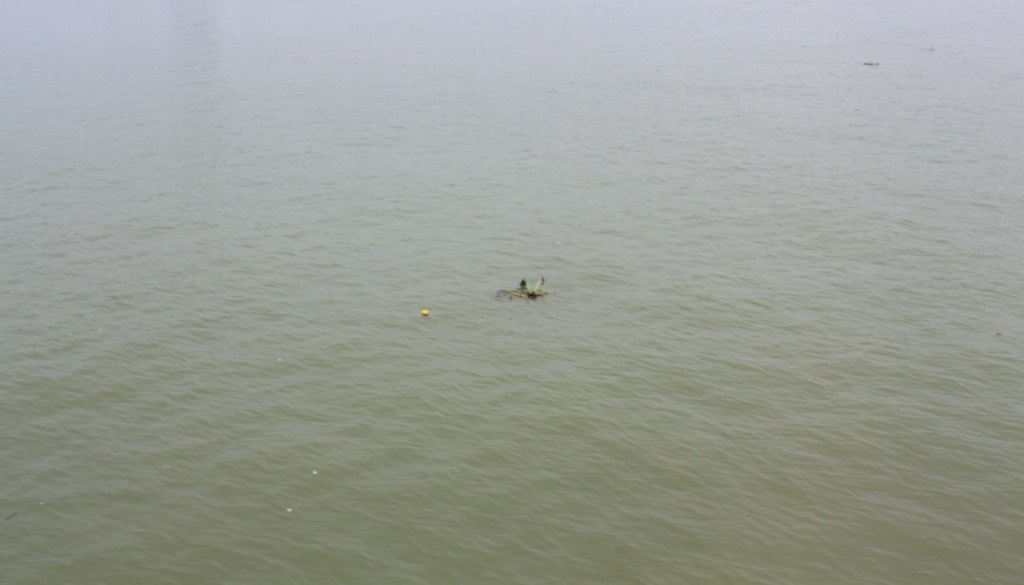organic: (488, 272, 560, 315), (854, 55, 883, 76), (990, 326, 1006, 341)
plastic: (415, 304, 437, 328), (279, 503, 296, 518), (308, 465, 324, 478), (93, 322, 106, 335), (273, 354, 287, 366)
